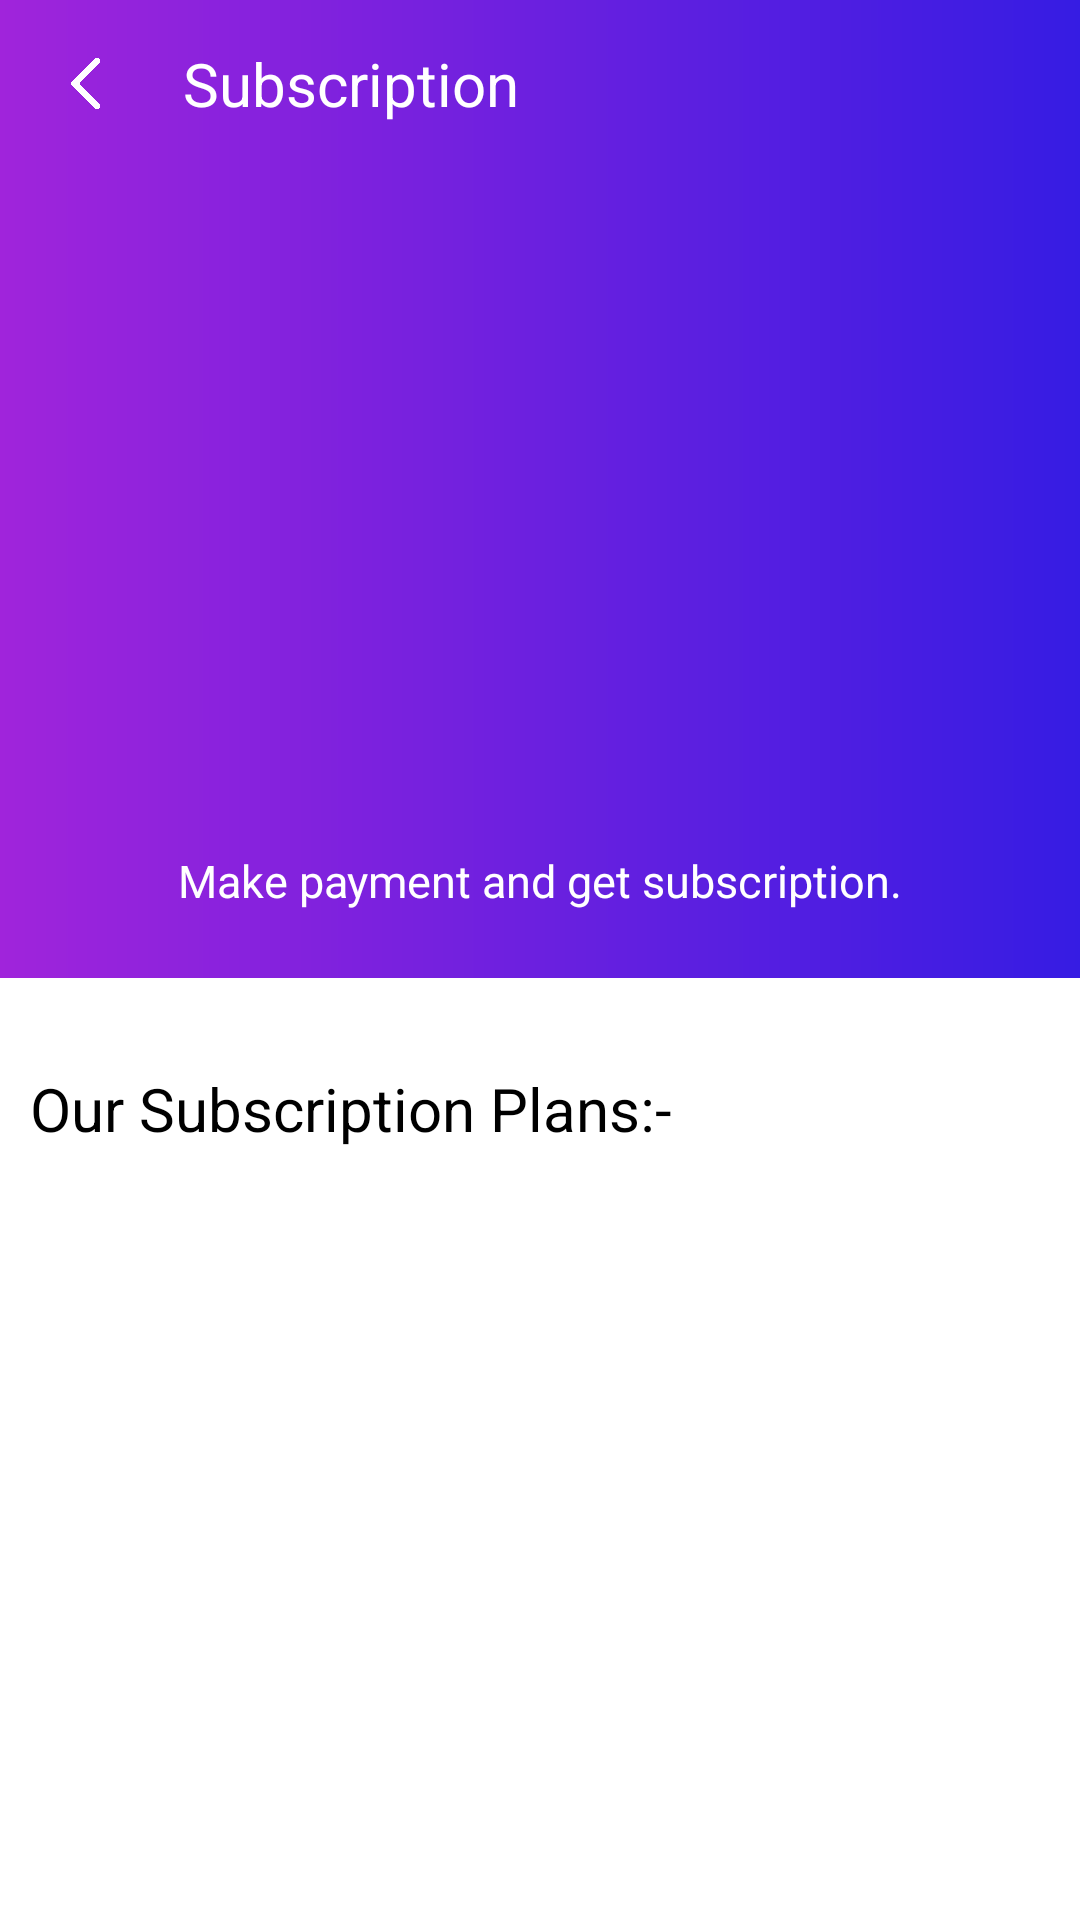

Icon bounding boxes for this 1080px x 1920px phone screenshot, format [x1=x1, y1=y1, x2=x2, y2=y2]:
back: [x1=71, y1=58, x2=100, y2=109]
